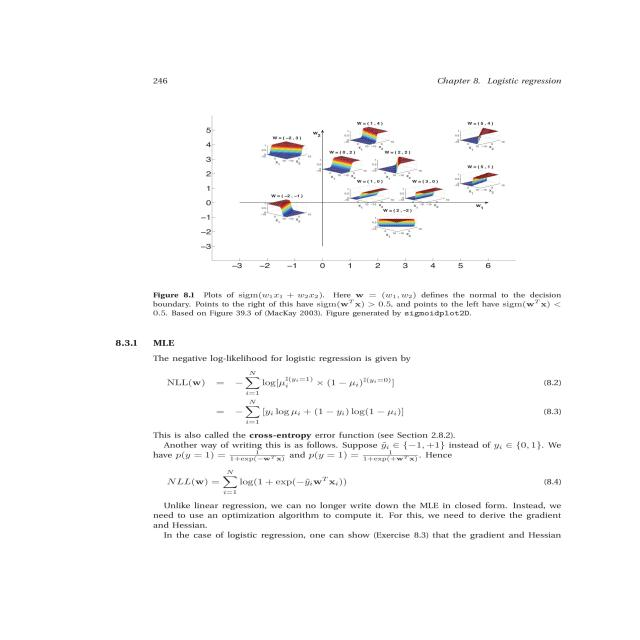diagram: (124, 93, 605, 331)
